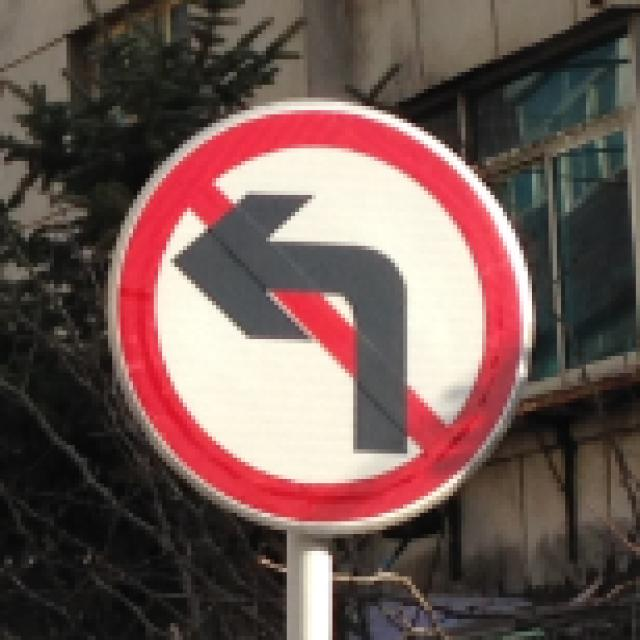Not that Direction: (107, 93, 541, 538)
